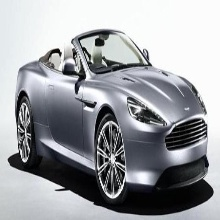no damage: (13, 31, 210, 205)
